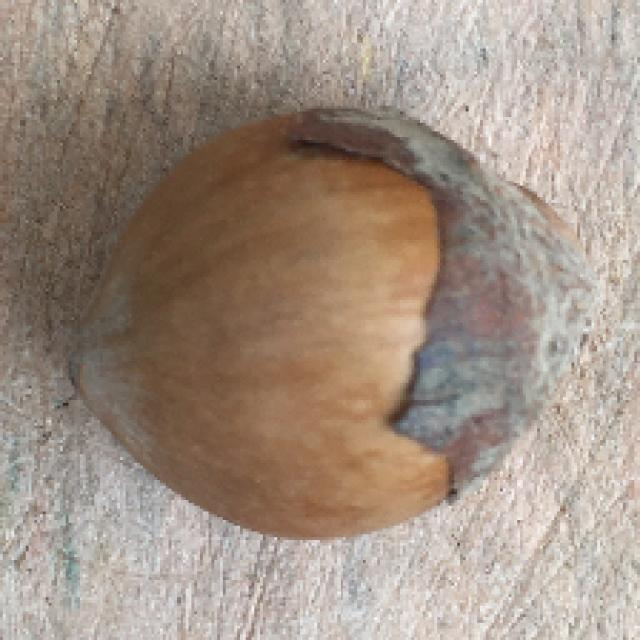damagedHazelnut: (86, 99, 593, 540)
